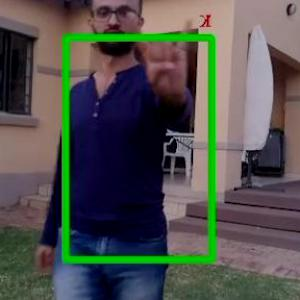takeoff-hand: (123, 10, 200, 95)
